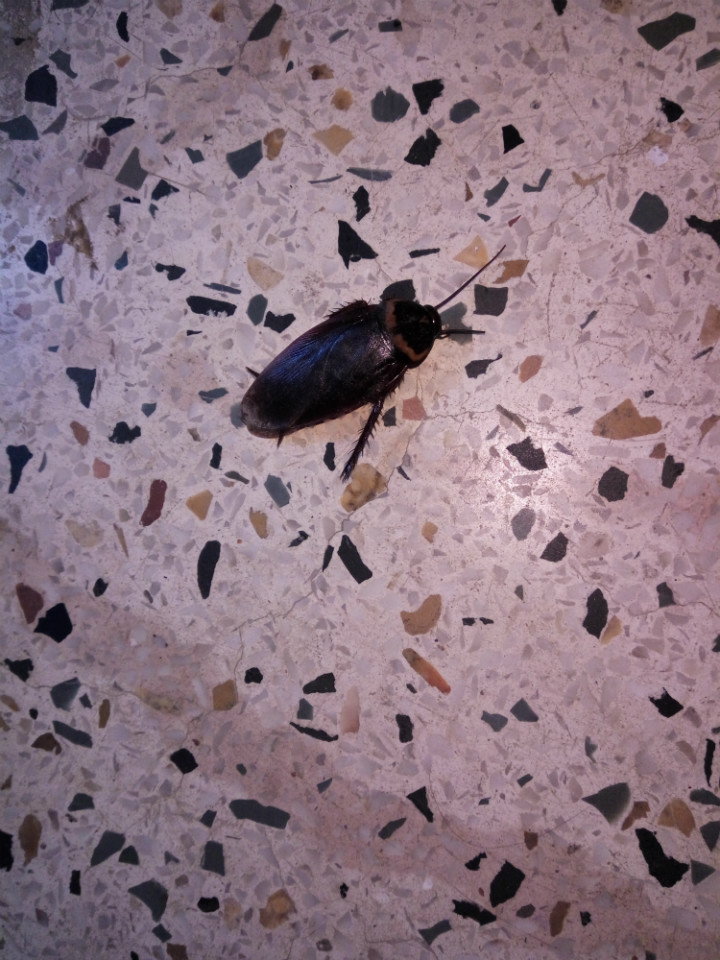cockroach: (143, 205, 588, 525)
